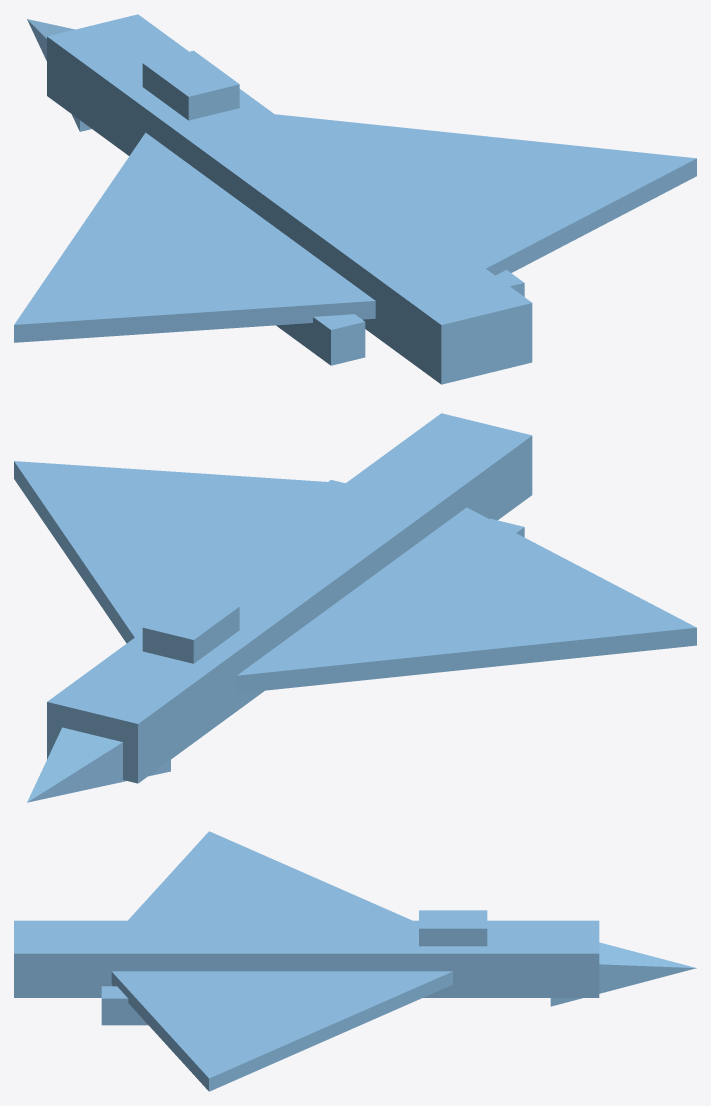
File: player_ship.glb
3 views of the same model, one above another, from view 1: azimuth 30°, elevation 25°; view 2: azimuth 150°, elevation 25°; view 3: azimuth 270°, elevation 25° (orthographic). The views are drawn at different scales.
Bounding box in the file's own units: 6 × 0.8 × 7.
